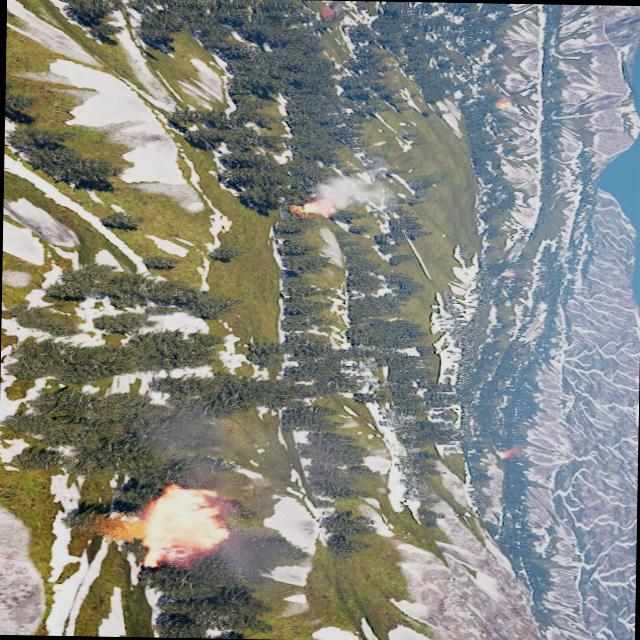fire: (138, 488, 231, 566), (291, 201, 327, 218), (494, 100, 508, 110), (500, 272, 514, 278), (495, 451, 507, 458)
smoke: (316, 170, 392, 216), (321, 0, 357, 19), (505, 447, 531, 460)
